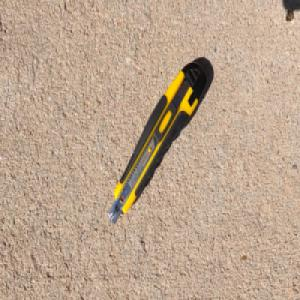Cutter: (107, 58, 209, 226)
